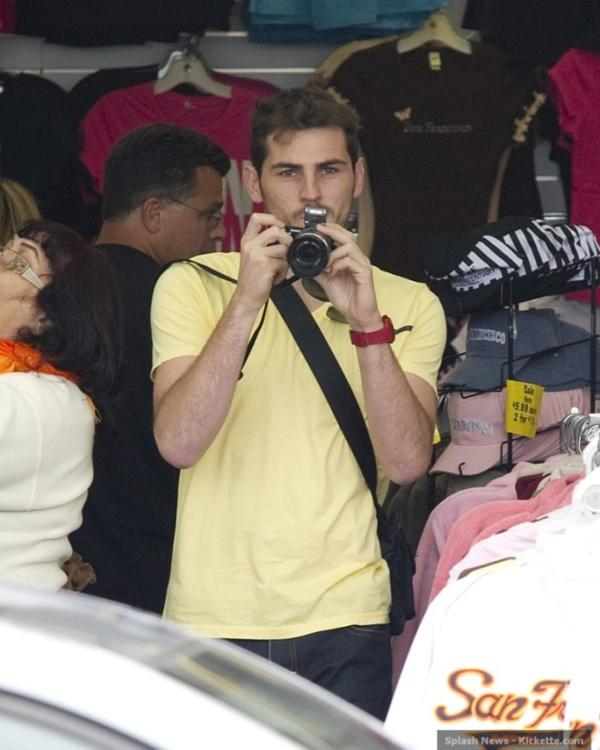person: (149, 85, 449, 724)
